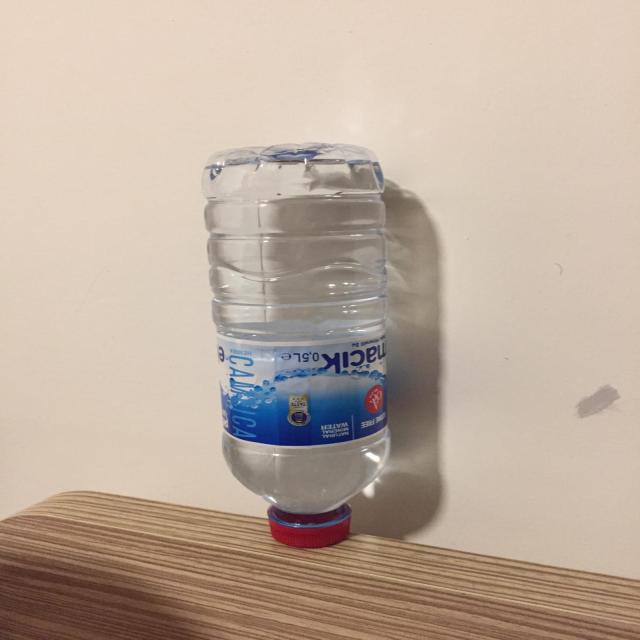anorganik: (182, 141, 424, 568)
